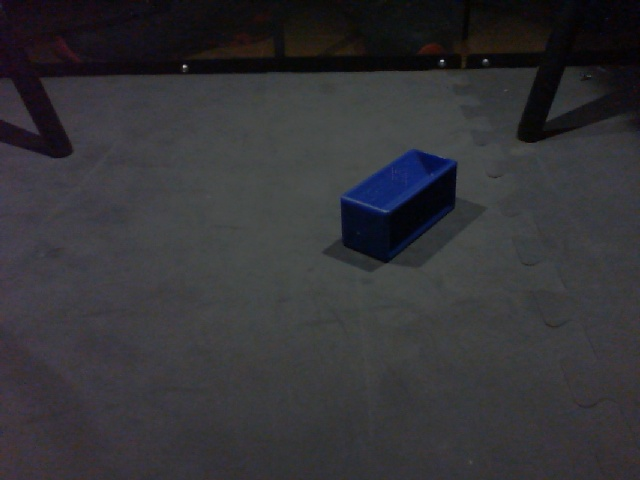BlueSample: (334, 145, 461, 264)
